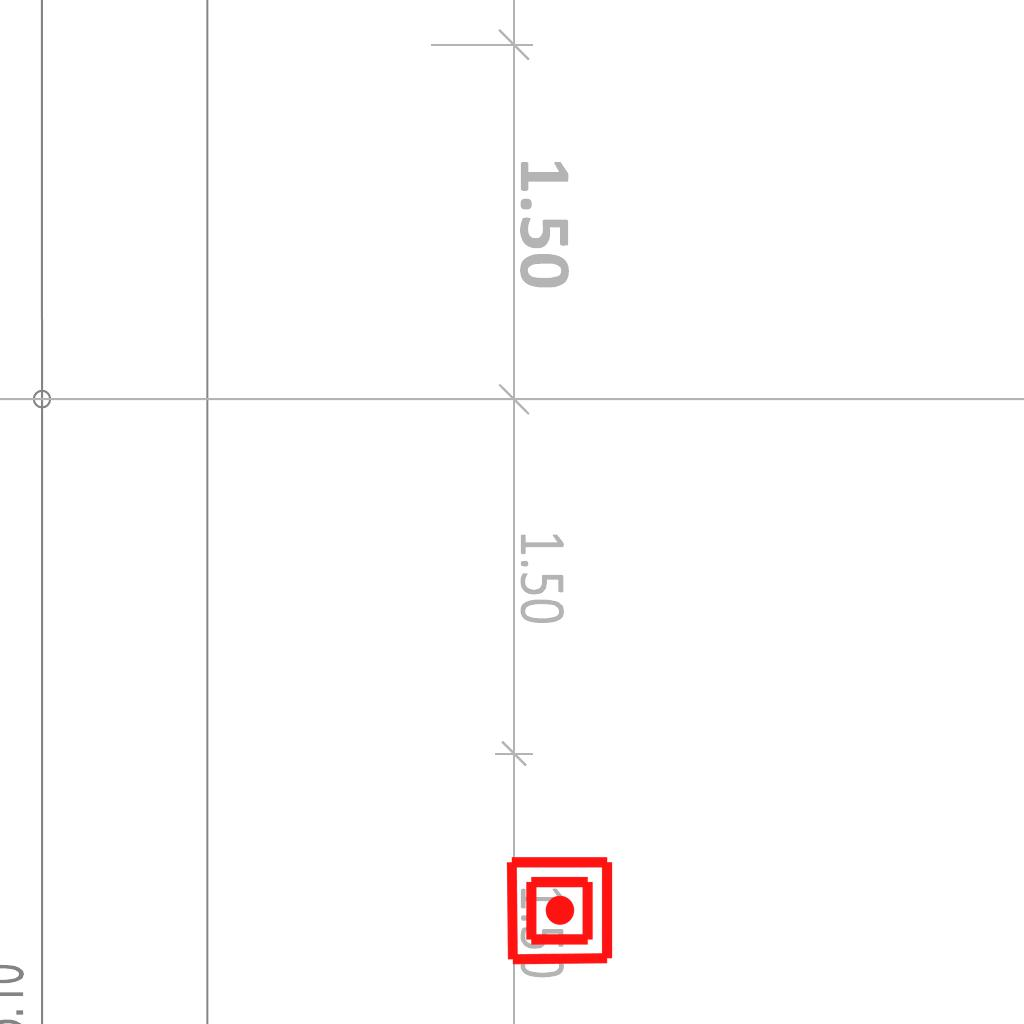NAM-Nichtautomatischer_Melder: (503, 854, 616, 967)
